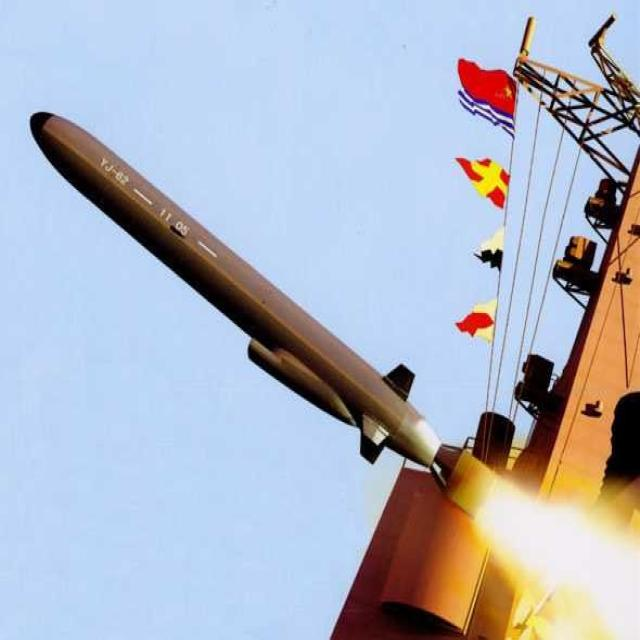missile: (27, 106, 489, 508)
